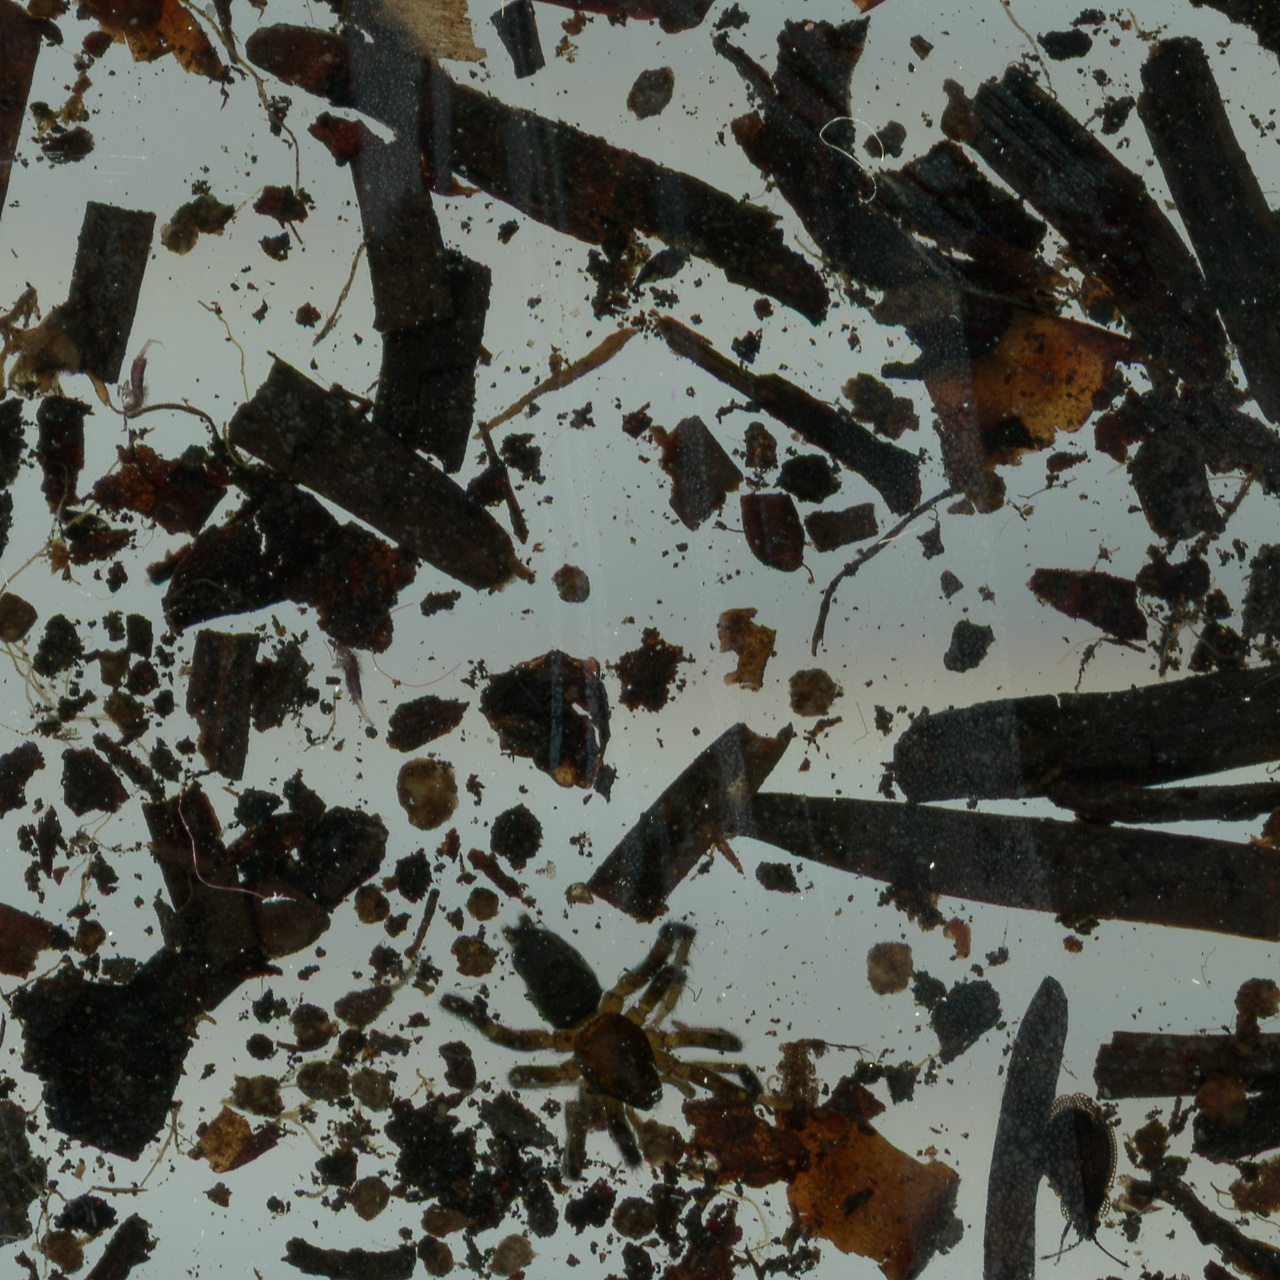arthropod: (441, 912, 762, 1182), (1033, 1095, 1128, 1266), (115, 336, 165, 421), (330, 644, 376, 727)
